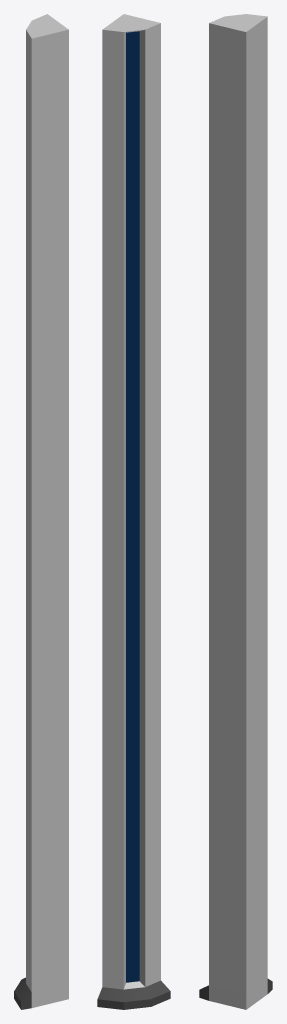
The model's file is Corner_Wall_Tall_Bottom.fbx.
The picture shows the model from 3 angles, left to right: view 1: azimuth 30°, elevation 25°; view 2: azimuth 150°, elevation 25°; view 3: azimuth 330°, elevation 25°; orthographic projection.
Parts seen in each view (by area): view 1: Corner_Wall_Tall_Bottom; view 2: Corner_Wall_Tall_Bottom; view 3: Corner_Wall_Tall_Bottom.
Boxes of the visible parts, x1,y1,x2,y2 form: Corner_Wall_Tall_Bottom: [14, 14, 68, 1009]; Corner_Wall_Tall_Bottom: [97, 14, 170, 1009]; Corner_Wall_Tall_Bottom: [199, 14, 272, 1009].
Size of the model in its own units: 0.2545 by 0.2545 by 5.
